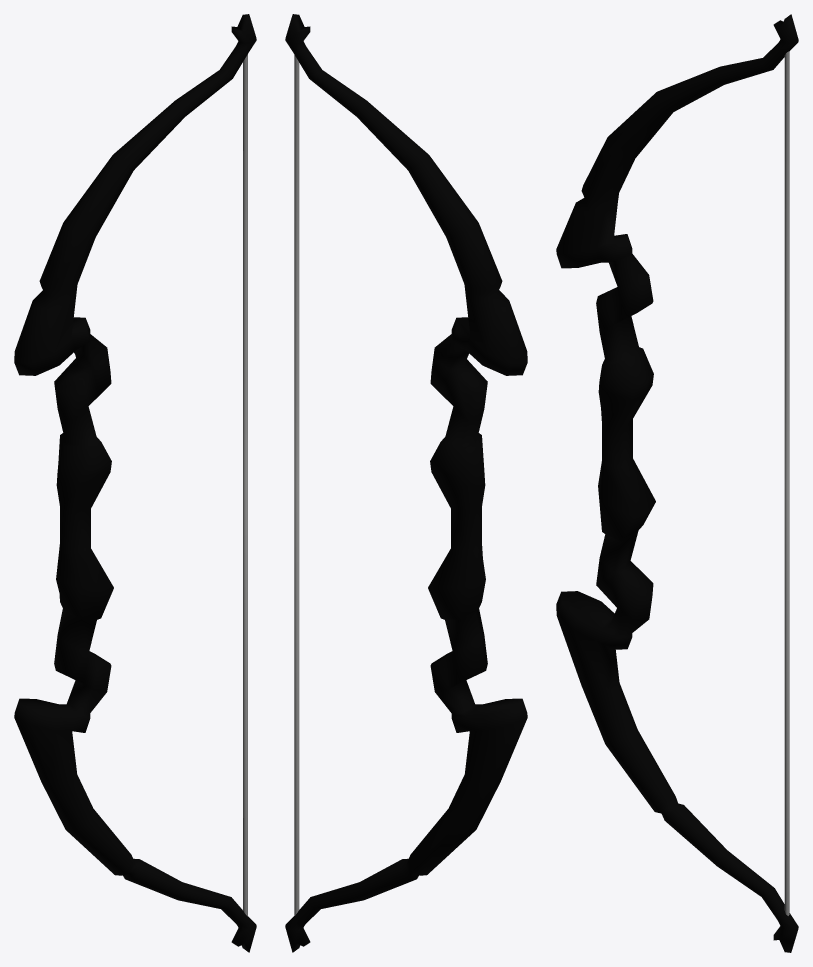
Rendered from WoodBow.fbx.
The picture shows the model from 3 angles, left to right: view 1: azimuth 30°, elevation 25°; view 2: azimuth 150°, elevation 25°; view 3: azimuth 330°, elevation 25°; orthographic projection.
Visible parts, largest first — view 1: Bow_Wooden; view 2: Bow_Wooden; view 3: Bow_Wooden.
Boxes of the visible parts, x1,y1,x2,y2 form: Bow_Wooden: (14, 14, 256, 952); Bow_Wooden: (285, 14, 527, 952); Bow_Wooden: (556, 14, 798, 952).
Size of the model in its own units: 16.9 by 62.58 by 2.8.
